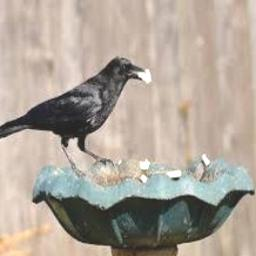Crow: (0, 55, 150, 175)
